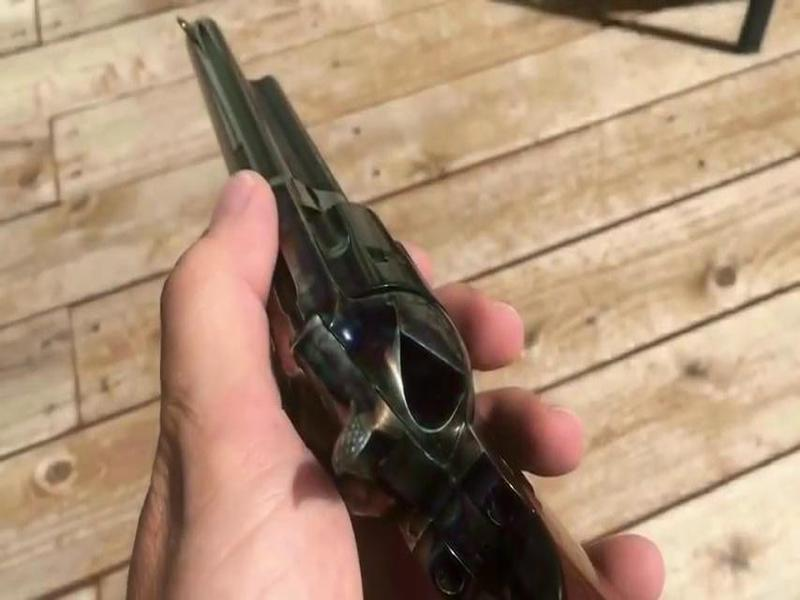Revolver: (172, 18, 514, 596)
